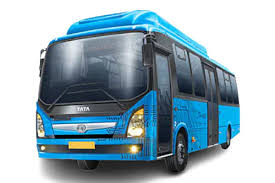bus: (34, 9, 242, 172)
